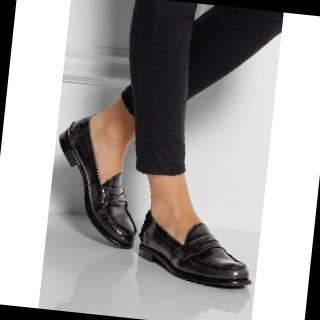loafers: (44, 112, 148, 251), (134, 210, 255, 292)
